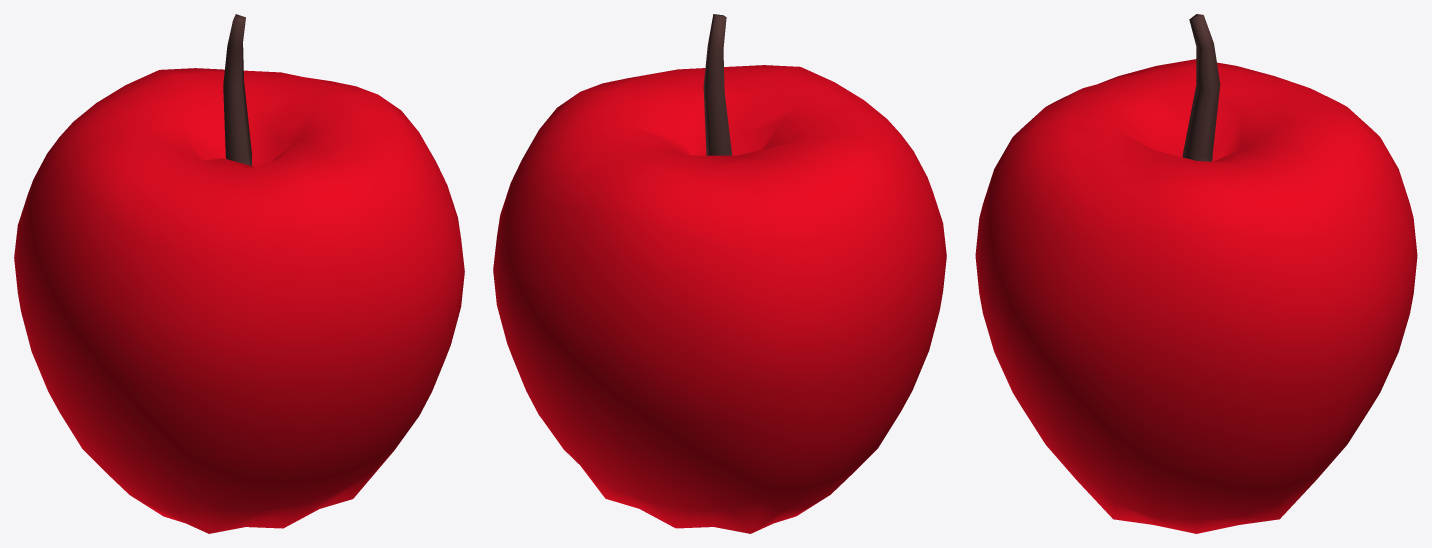
File: apple.glb
3 views of the same model, side by side, from view 1: azimuth 30°, elevation 25°; view 2: azimuth 150°, elevation 25°; view 3: azimuth 270°, elevation 25° (orthographic).
Visible parts, largest first — view 1: Cube; view 2: Cube; view 3: Cube.
Part boxes in pixels (x1=…): Cube: x1=14, y1=14, x2=464, y2=533; Cube: x1=493, y1=14, x2=946, y2=533; Cube: x1=975, y1=14, x2=1417, y2=533.
Size of the model in its own units: 1.68 by 2.03 by 1.68.
